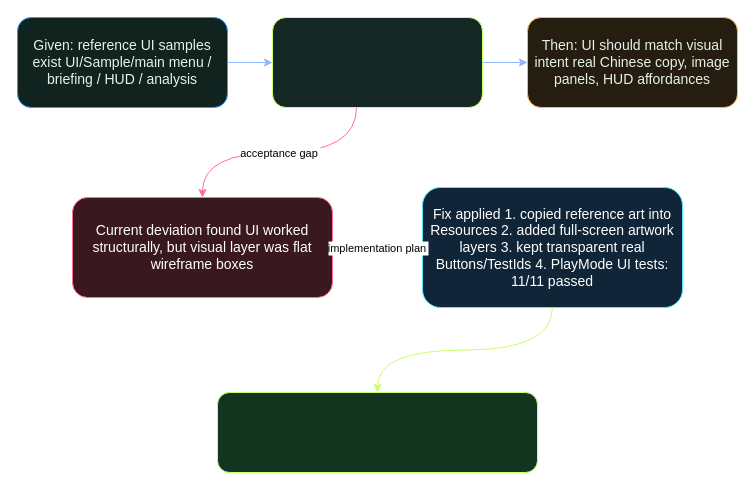
This 755x490 diagram has some shape labels left out. The box of each missing label's shape, as (x1, y1, x2, y2) in pixels:
Evidence Screenshots captured: main menu, briefing, HUD, impact analysis: (216, 392, 538, 472)
When: enter PlayMode and exercise zeroing UI flow: (272, 16, 482, 108)
